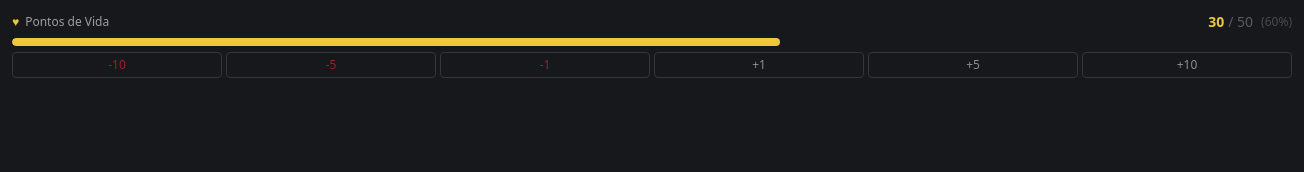
CharacterHpControls › clicar no número de HP abre um input numérico com o valor atual
Click the button "30" at [1216, 22], box [1208,12,1224,32]
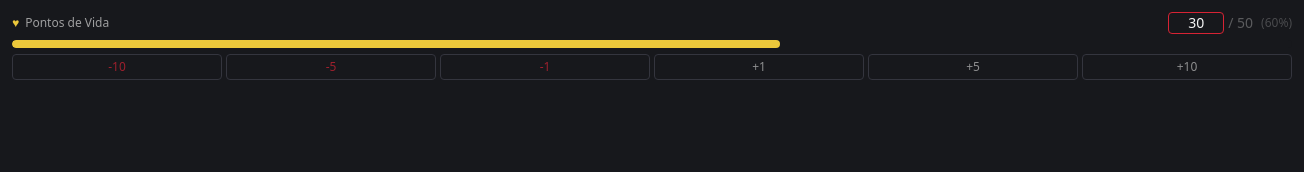
Now the number field holds "30", box [1168,12,1224,34]
